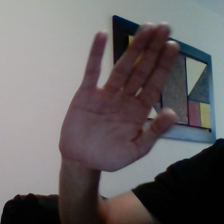left: (53, 13, 189, 171)
